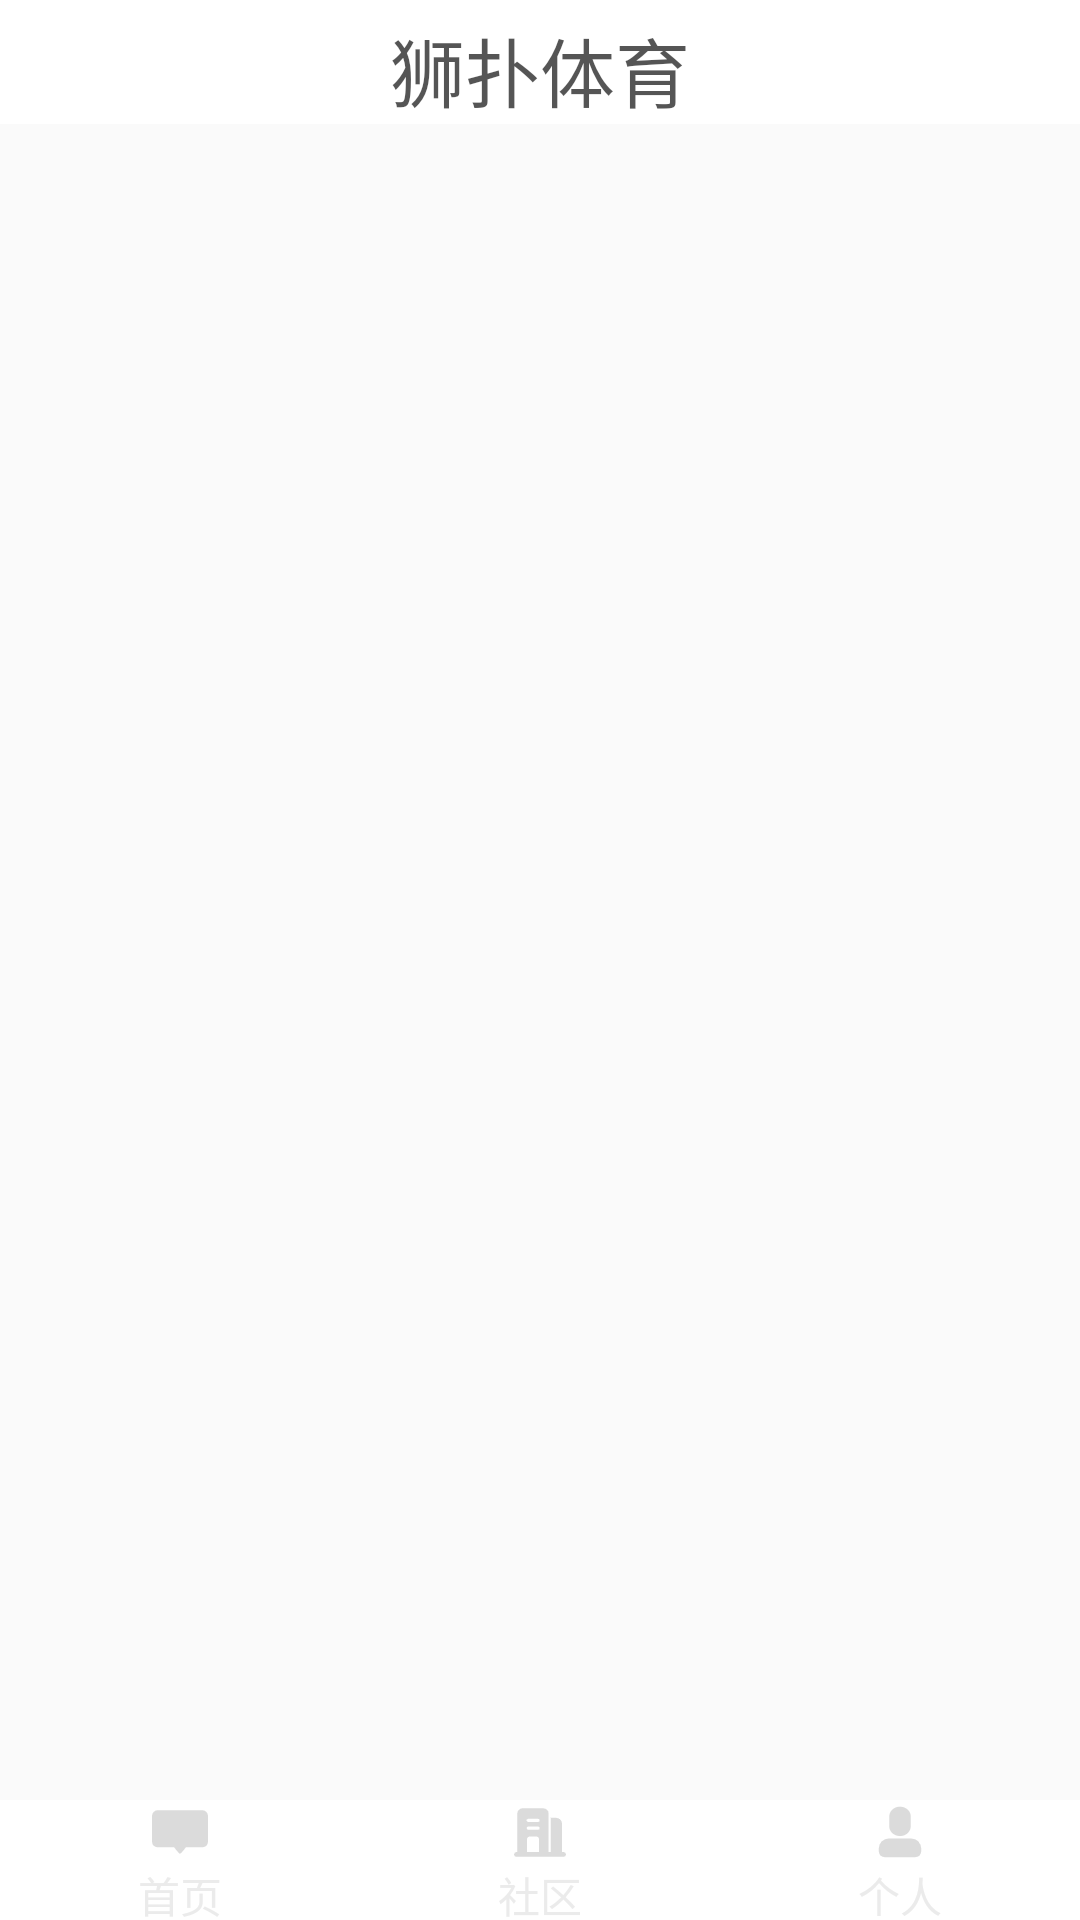

Where icons sit on this 1080 × 1920 app screen, as bbox=(x1, y1, x2, y2):
user unselect: bbox=(879, 1807, 921, 1857)
